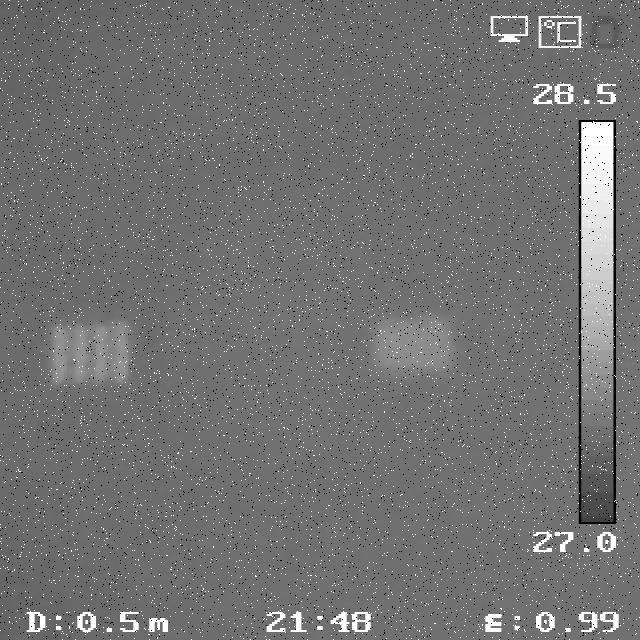Indistinguishable 4-bar target: (377, 319, 452, 373)
threshold 4-bar target: (51, 321, 132, 387)
